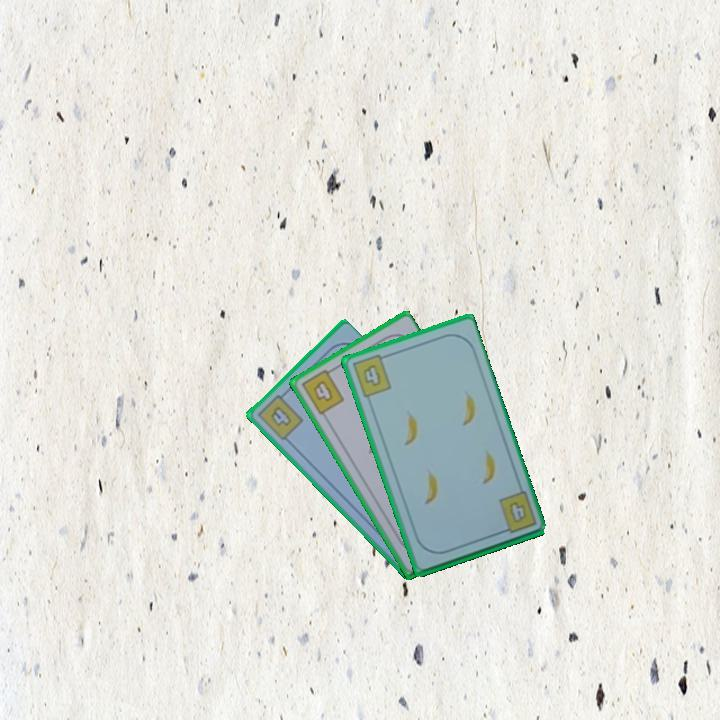4b: (254, 388, 306, 443), (298, 364, 347, 418), (349, 351, 394, 401), (495, 488, 539, 536)
